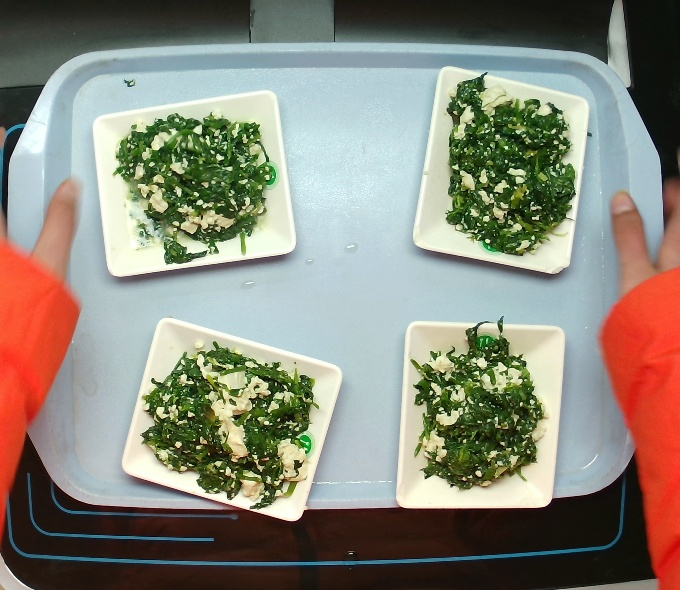wcq-QinCaiYeDouFu: (134, 332, 329, 511), (101, 100, 289, 271), (429, 82, 589, 251), (403, 323, 556, 484)
